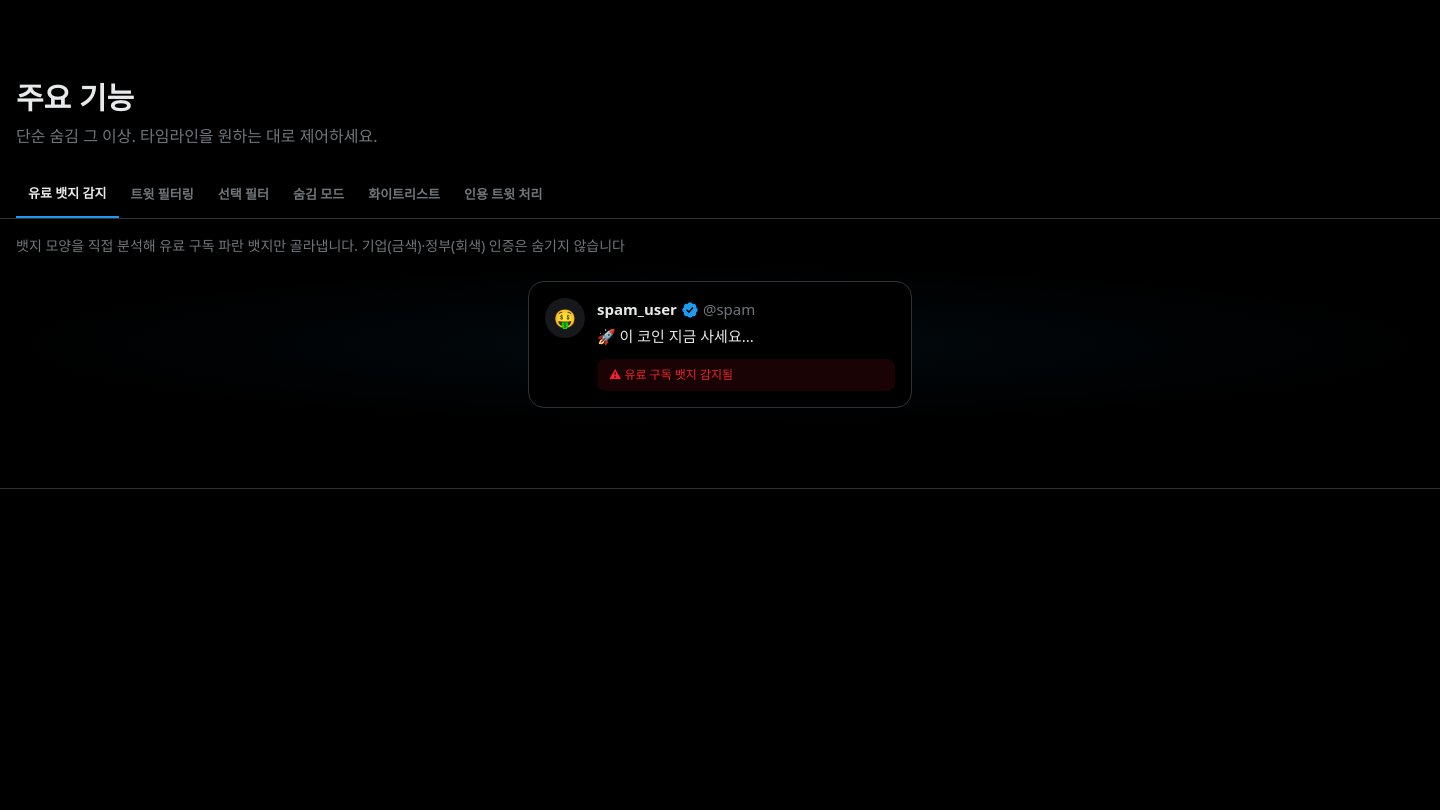
Scenario: Features › switches feature on tab click
Click the button "트윗 필터링".
click(162, 195)  # box [118,172,206,218]
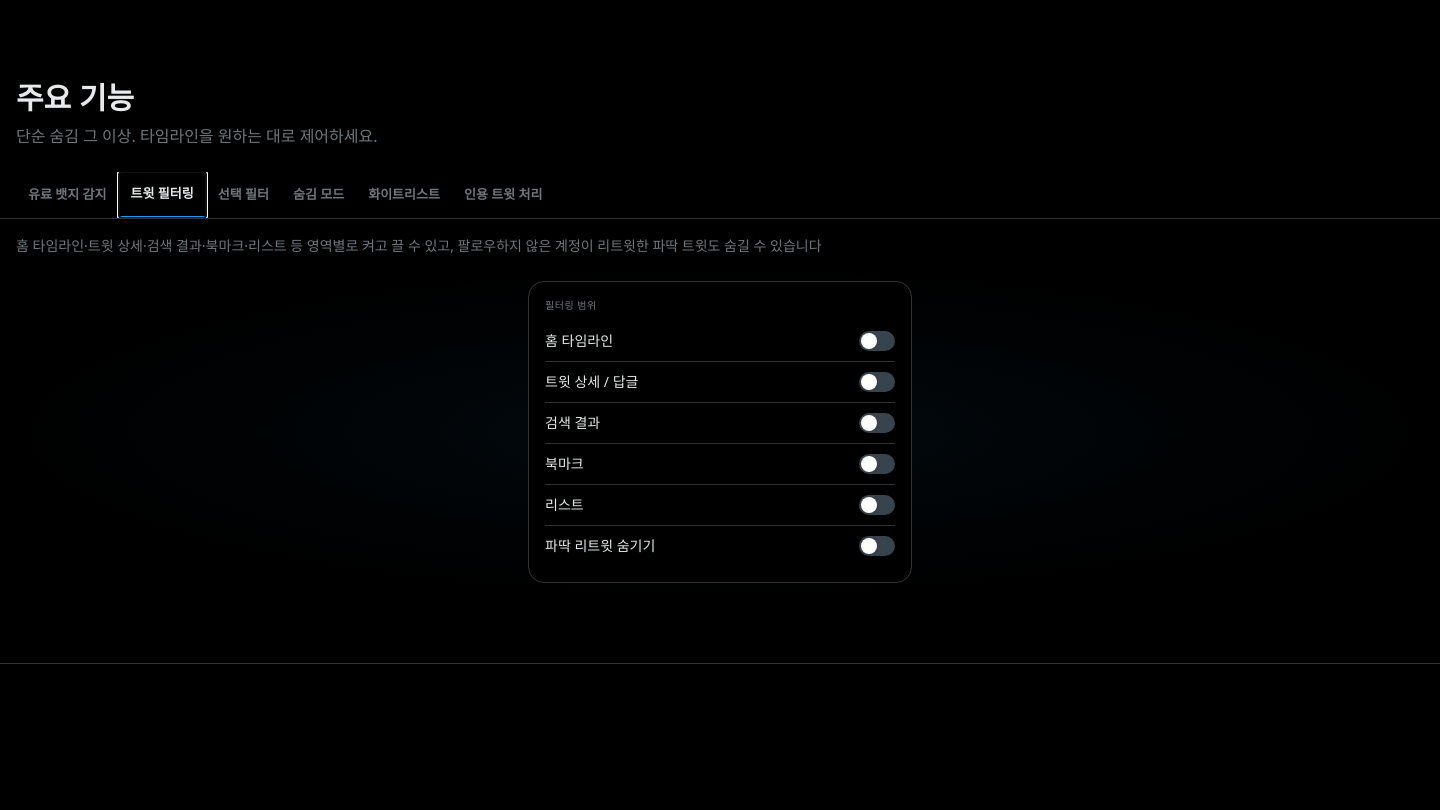
Expected: the text "팔로우하지 않은 계정이 리트윗한 파딱 트윗" is shown, [16,236,822,254]
Expected: the text "홈 타임라인" is shown, [545,331,613,351]
Expected: the text "트윗 상세 / 답글" is shown, [545,372,638,392]
